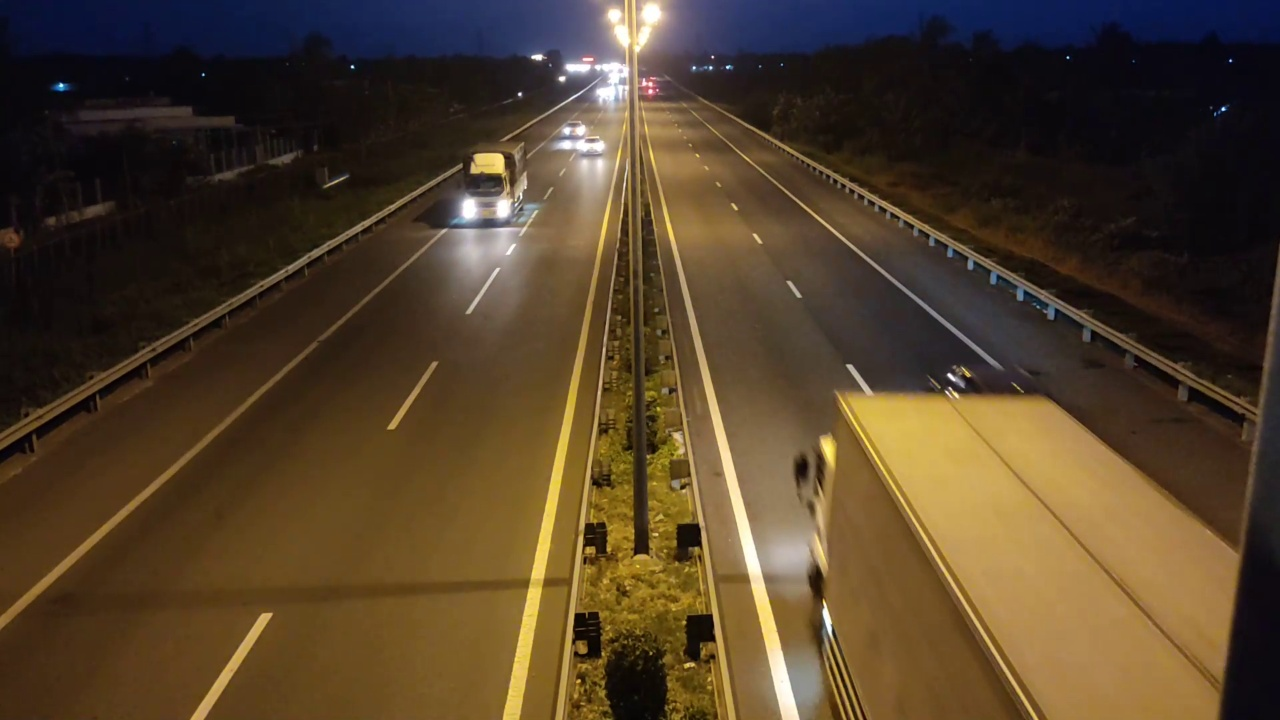truck: (459, 138, 529, 226)
